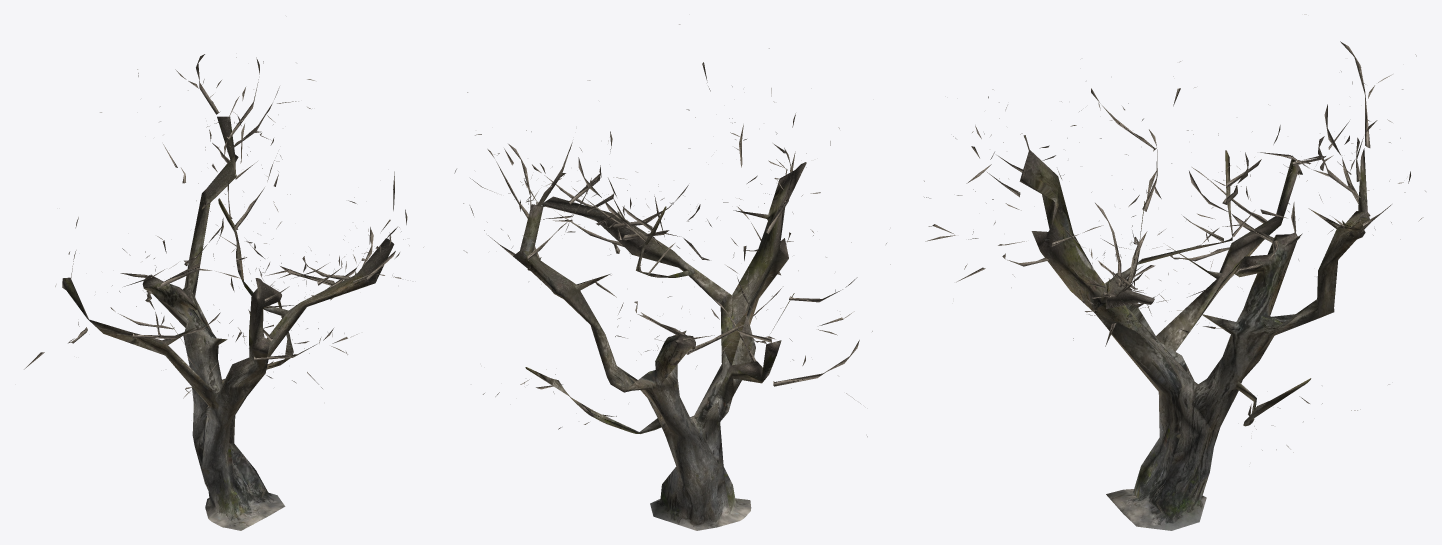
The model's file is glb_t3_oak.970d9d90.glb.
3 views of the same model, side by side, from view 1: azimuth 30°, elevation 25°; view 2: azimuth 150°, elevation 25°; view 3: azimuth 270°, elevation 25° (orthographic). The views are drawn at different scales.
Visible parts, largest first — view 1: island_tree_01_LOD0; view 2: island_tree_01_LOD0; view 3: island_tree_01_LOD0.
Boxes of the visible parts, x1,y1,x2,y2 form: island_tree_01_LOD0: (24, 54, 423, 530); island_tree_01_LOD0: (454, 24, 890, 530); island_tree_01_LOD0: (924, 14, 1425, 530).
Bounding box in the file's own units: 4.27 × 4.64 × 4.11.
Materials: 2 (2 with a texture image).
